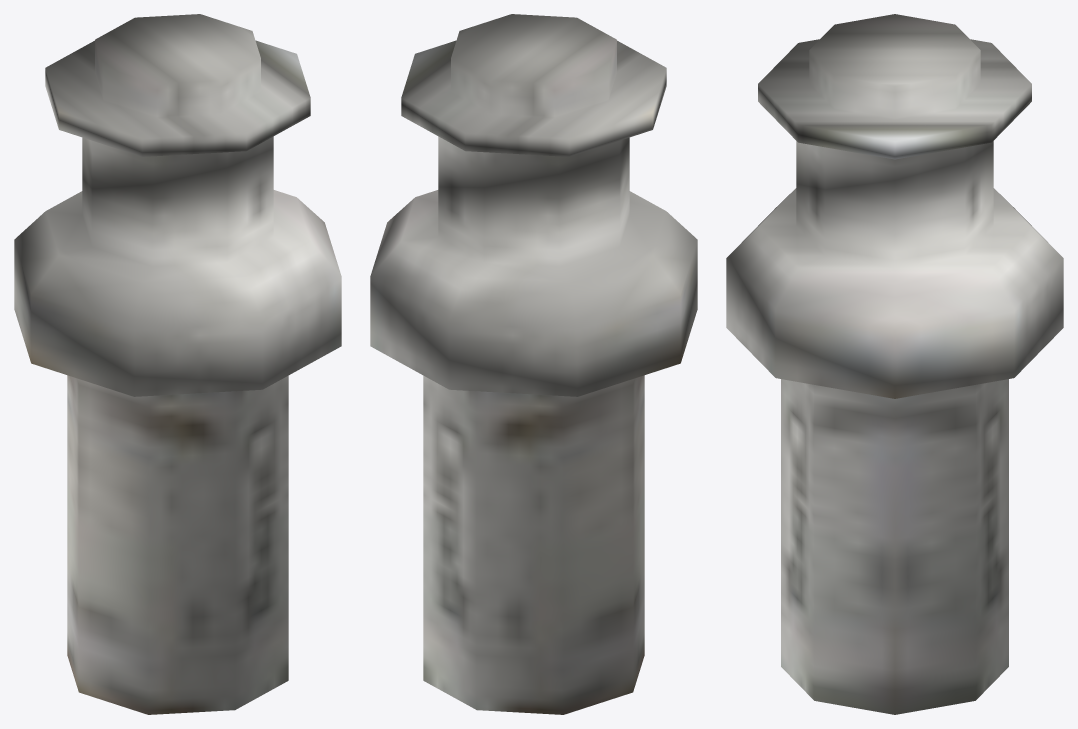
Rendered from dextre_arm_1_wrist_roll.dae.
3 renders of one model, left to right at view 1: azimuth 30°, elevation 25°; view 2: azimuth 150°, elevation 25°; view 3: azimuth 270°, elevation 25°, orthographic.
Visible parts, largest first — view 1: 29 DEXTRE.015; view 2: 29 DEXTRE.015; view 3: 29 DEXTRE.015.
Boxes of the visible parts, box(x1,y1,x2,y2) form: 29 DEXTRE.015: box(14, 14, 341, 714); 29 DEXTRE.015: box(370, 14, 697, 714); 29 DEXTRE.015: box(726, 14, 1063, 714).
Bounding box in the file's own units: 0.4562 × 0.4562 × 0.9194.
Materials: 1 (1 with a texture image).
